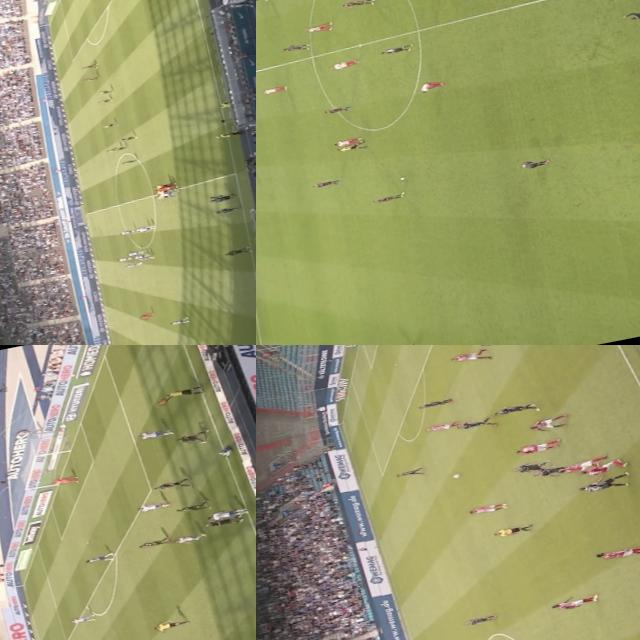ball: (448, 468, 462, 479), (395, 174, 410, 182)
player: (572, 470, 630, 496), (546, 591, 600, 612), (591, 541, 640, 563), (576, 457, 627, 478), (558, 452, 607, 473), (148, 473, 196, 492), (515, 436, 564, 454), (200, 512, 248, 530), (206, 504, 254, 520), (175, 428, 212, 446), (448, 348, 487, 365), (514, 458, 552, 475), (172, 500, 210, 516), (136, 424, 174, 440), (494, 402, 532, 418), (528, 464, 571, 478), (455, 416, 492, 432), (516, 154, 548, 172), (136, 534, 172, 550), (462, 612, 500, 627), (414, 395, 452, 410), (530, 415, 565, 431), (373, 189, 410, 204), (468, 500, 507, 514), (172, 531, 208, 546), (376, 42, 409, 58), (258, 82, 294, 96), (82, 551, 118, 565), (412, 78, 443, 94), (326, 101, 355, 116), (393, 466, 424, 480), (214, 442, 238, 460), (420, 421, 456, 433), (306, 20, 336, 34), (331, 135, 366, 147), (136, 500, 170, 512), (49, 473, 80, 485), (281, 42, 311, 54), (68, 613, 95, 626), (332, 58, 357, 70), (166, 315, 193, 326), (344, 0, 376, 9), (314, 178, 338, 190), (155, 182, 180, 192), (135, 252, 157, 262), (117, 133, 137, 143), (117, 157, 139, 165), (119, 227, 138, 236), (136, 224, 157, 232), (138, 312, 156, 321), (78, 63, 98, 71), (80, 74, 100, 82), (94, 96, 114, 104), (157, 189, 177, 197), (126, 248, 144, 256), (126, 260, 144, 268), (132, 252, 150, 260), (101, 120, 119, 128), (117, 255, 134, 262), (104, 146, 120, 153), (481, 345, 518, 348), (132, 225, 150, 231), (97, 88, 113, 94), (386, 342, 416, 345), (112, 144, 126, 150)
